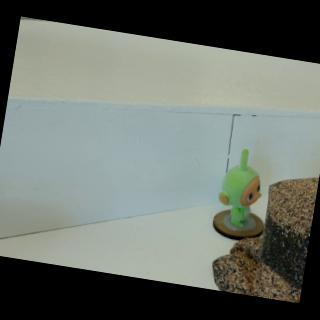teletubby: (219, 149, 261, 228)
